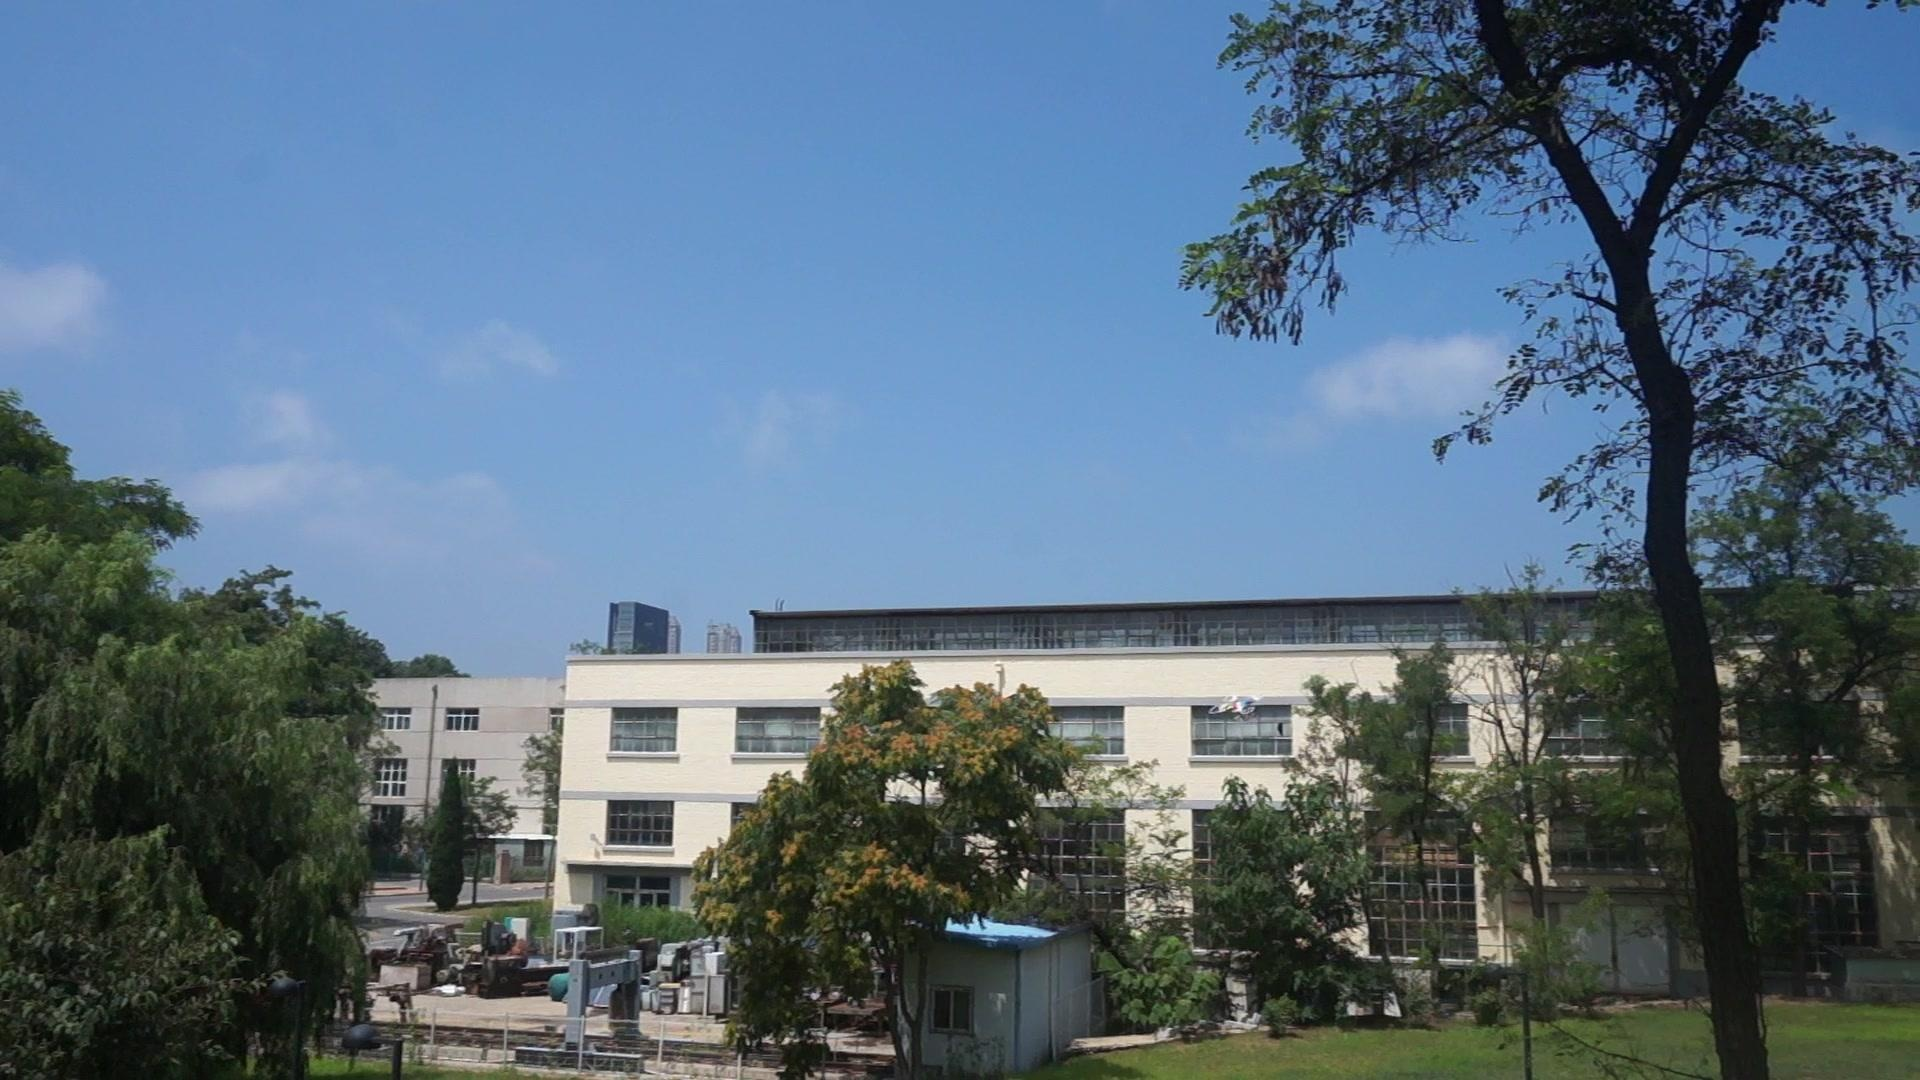UAV: (1209, 695, 1265, 723)
